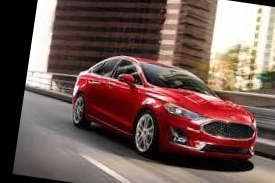car: (62, 44, 274, 173)
